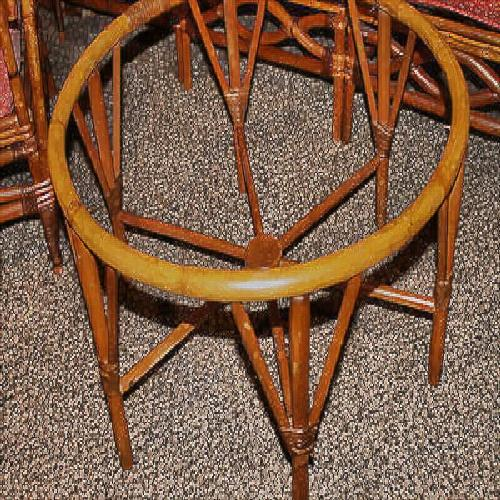sofa: (67, 20, 471, 415)
